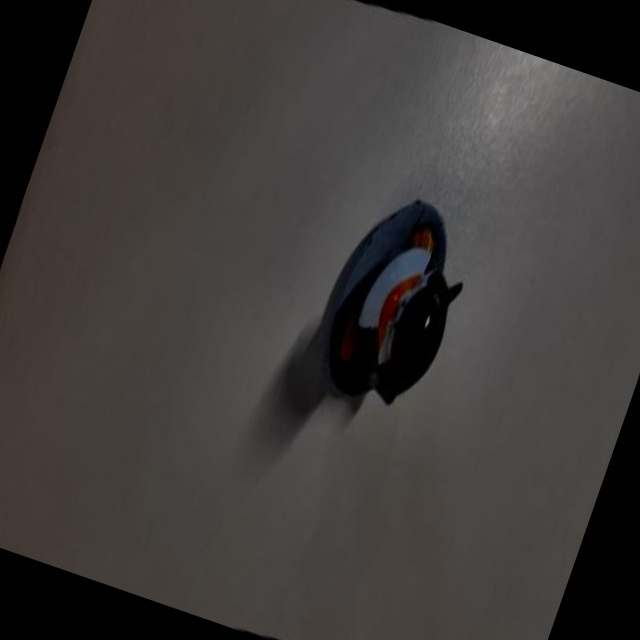Penguin: (285, 148, 504, 449)
